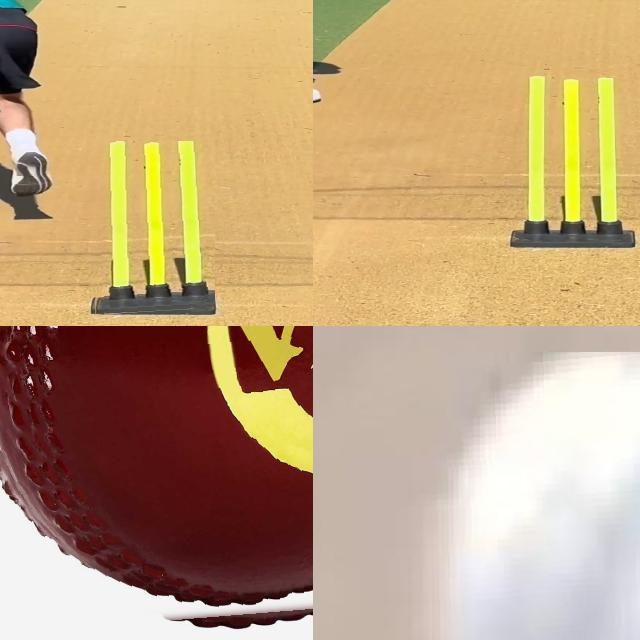Cricket ball: (0, 326, 313, 638), (426, 352, 640, 640)
Stumps: (90, 141, 215, 315)
